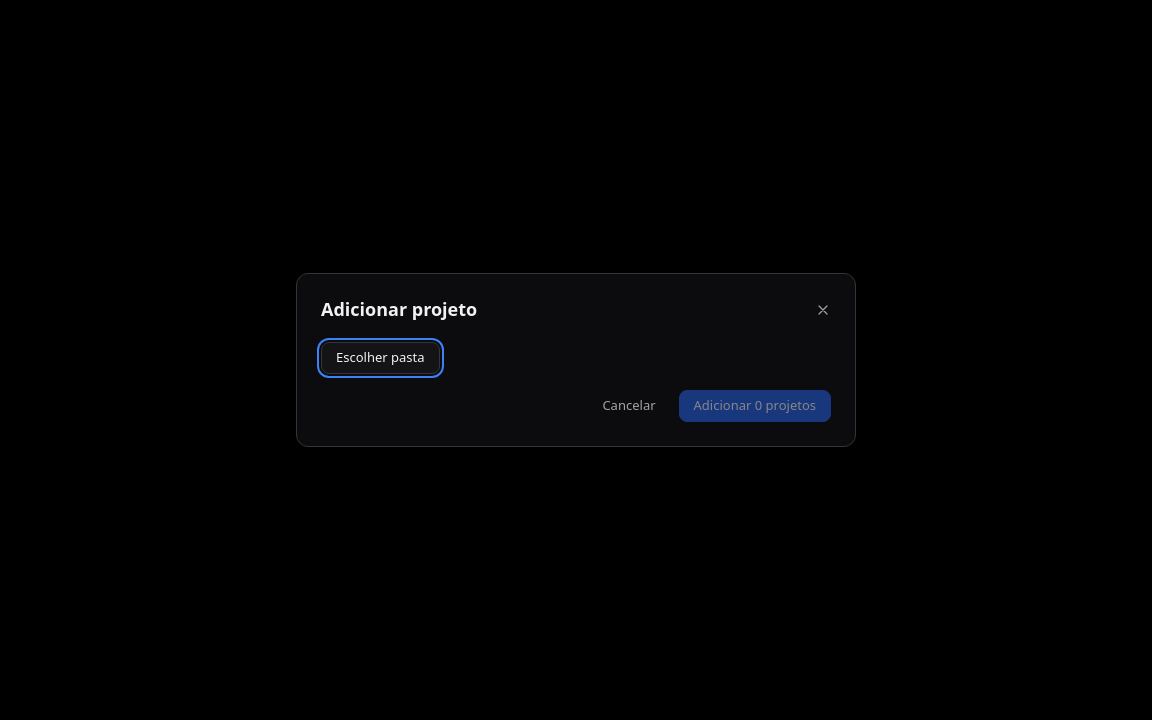
AddProjectDialog › falha ao procurar projetos aparece como mensagem, sem quebrar
The image size is (1152, 720).
Click the button "Escolher pasta": (380, 358) top-left (321, 342), bottom-right (440, 374)
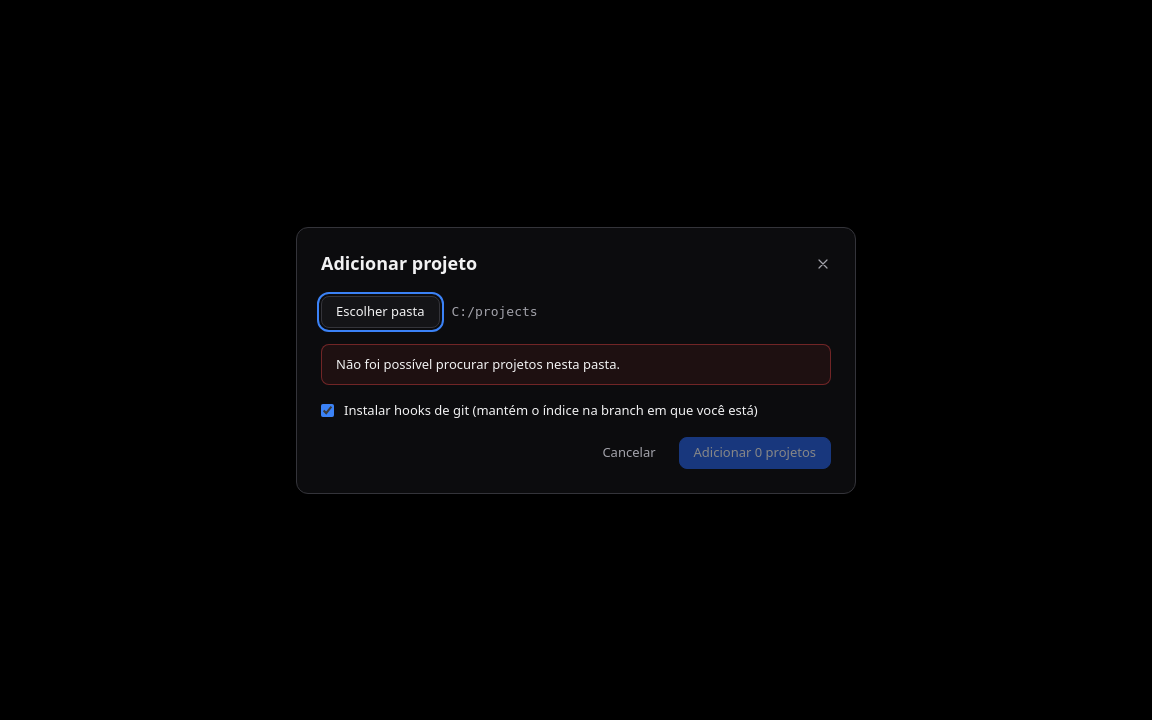
expect the text "C:/projects" is shown: met, box top-left (452, 302), bottom-right (538, 321)
expect the text "Não foi possível procurar projetos nesta pasta." is shown: met, box top-left (321, 344), bottom-right (831, 385)
